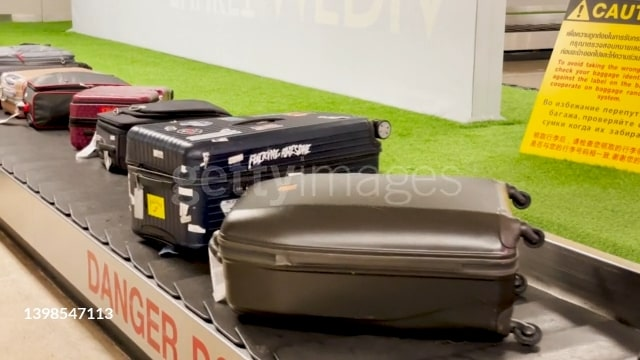baggage: (210, 173, 549, 349), (121, 112, 391, 261), (93, 100, 241, 179), (69, 79, 171, 149), (22, 70, 125, 126)
